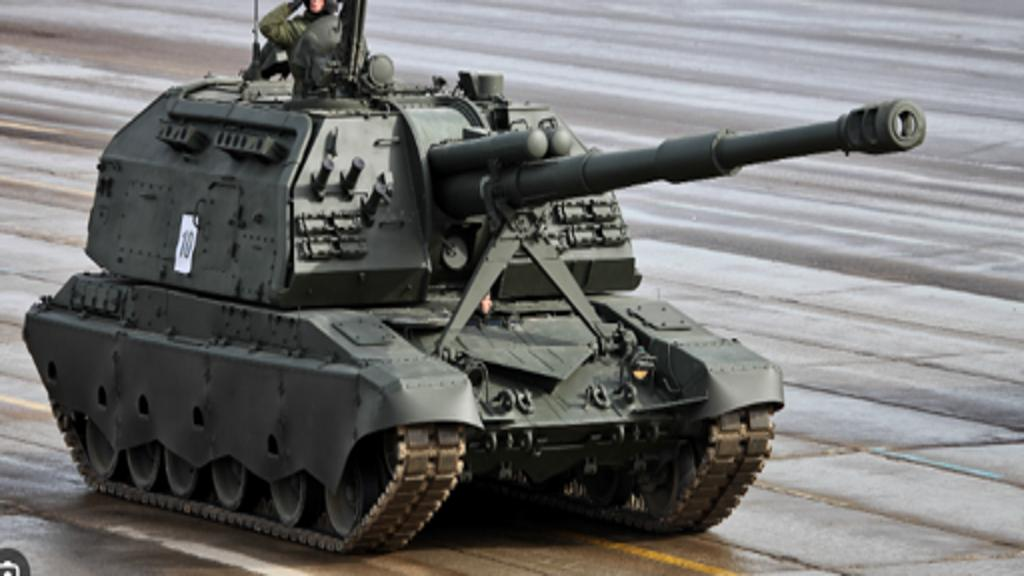ART: (16, 53, 926, 553)
